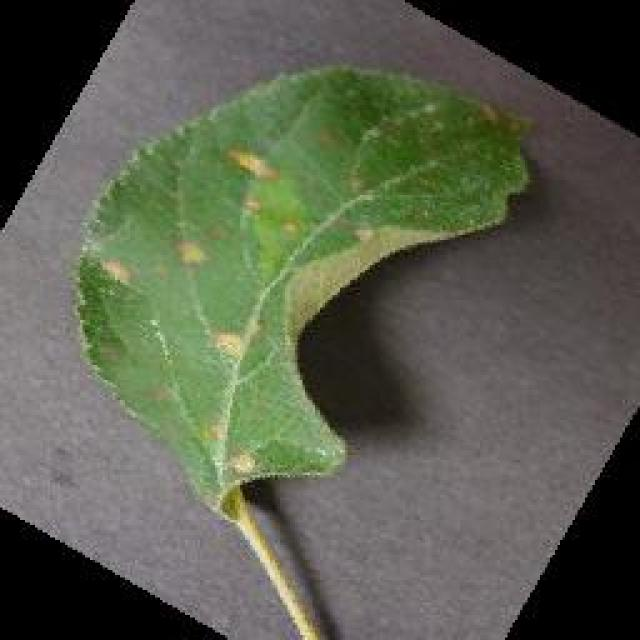apple healthy: (70, 60, 538, 522)
